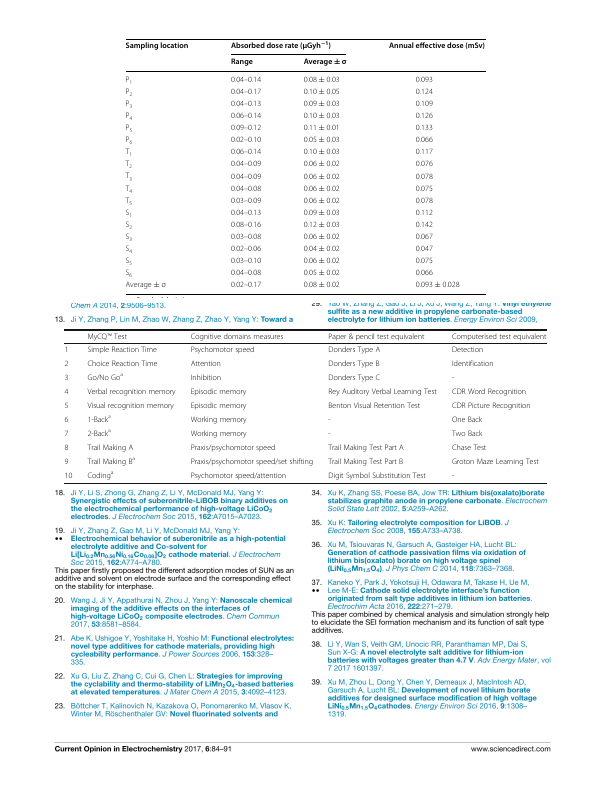borderless: (124, 37, 486, 294), (64, 328, 547, 483)
cell: (190, 457, 314, 467), (230, 40, 332, 51), (327, 387, 438, 397), (327, 471, 427, 481), (388, 41, 486, 51), (190, 471, 287, 481), (327, 401, 421, 411), (86, 387, 176, 397), (86, 401, 175, 411), (451, 457, 540, 467), (327, 332, 425, 341), (451, 332, 547, 341), (190, 443, 276, 453), (190, 332, 284, 341), (451, 401, 532, 411), (327, 443, 405, 453), (327, 457, 404, 467), (451, 387, 527, 397), (86, 345, 158, 355), (86, 359, 158, 369), (190, 345, 255, 355), (125, 41, 189, 51), (86, 455, 136, 467), (190, 415, 248, 425), (190, 429, 248, 439), (190, 387, 247, 397), (190, 401, 247, 411), (327, 345, 381, 355), (327, 373, 381, 383), (327, 359, 380, 369), (86, 443, 134, 453), (86, 371, 124, 383), (303, 57, 347, 67), (451, 359, 494, 369), (415, 281, 461, 290), (124, 281, 167, 290), (303, 75, 341, 85), (303, 87, 341, 97), (303, 196, 341, 206), (303, 208, 341, 218), (86, 332, 128, 341), (451, 443, 487, 453), (303, 100, 341, 109), (303, 112, 341, 121), (303, 124, 341, 133), (303, 136, 341, 145), (303, 148, 341, 157), (303, 160, 341, 169), (303, 172, 341, 181), (303, 184, 341, 193), (303, 221, 341, 230), (303, 233, 341, 242), (303, 245, 341, 254), (303, 257, 341, 266), (303, 269, 341, 278), (303, 281, 341, 290), (86, 469, 114, 481), (451, 345, 484, 355), (190, 359, 222, 369), (190, 373, 222, 383), (451, 415, 483, 425), (451, 429, 483, 439), (230, 75, 262, 85), (230, 87, 262, 97), (230, 196, 262, 206), (230, 208, 262, 218), (86, 413, 112, 425), (86, 427, 112, 439), (230, 100, 262, 109), (230, 112, 262, 121), (230, 124, 262, 133), (230, 136, 262, 145), (230, 148, 262, 157), (230, 160, 262, 169), (230, 172, 262, 181), (230, 184, 262, 193), (230, 221, 262, 230), (230, 233, 262, 242), (230, 245, 262, 254), (230, 257, 262, 266), (230, 269, 262, 278), (230, 281, 262, 290), (230, 57, 254, 67), (415, 75, 434, 85), (415, 87, 434, 97), (415, 196, 434, 206), (415, 208, 434, 218), (415, 100, 434, 109), (415, 112, 434, 121), (415, 124, 434, 133), (415, 136, 434, 145), (415, 148, 434, 157), (415, 160, 434, 169), (415, 172, 434, 181), (415, 184, 434, 193), (415, 221, 434, 230), (415, 233, 434, 242), (415, 245, 434, 254), (415, 257, 434, 266), (415, 269, 434, 278), (124, 148, 133, 159), (124, 160, 133, 171), (124, 172, 133, 183), (124, 184, 133, 195), (124, 196, 133, 207), (124, 208, 133, 219), (124, 257, 133, 268), (124, 269, 133, 280), (64, 471, 73, 481), (124, 221, 133, 231), (124, 233, 133, 243), (124, 245, 133, 255), (125, 75, 133, 86), (125, 87, 133, 98), (125, 136, 133, 147), (125, 100, 133, 110), (125, 112, 133, 122), (125, 124, 133, 134), (63, 345, 69, 355), (63, 359, 69, 369), (63, 373, 69, 383), (64, 387, 69, 397), (64, 401, 69, 411), (64, 415, 69, 425), (327, 415, 332, 425), (64, 429, 69, 439), (327, 429, 332, 439), (64, 443, 69, 453), (64, 457, 69, 467), (451, 373, 455, 383), (451, 471, 455, 481)
